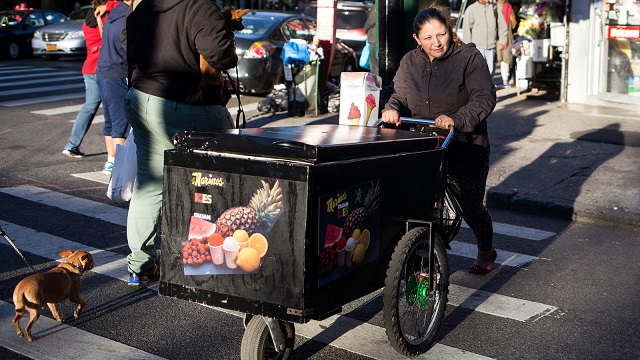car: (238, 13, 303, 86), (35, 9, 86, 55)
cart: (161, 123, 461, 360)
dog: (13, 248, 96, 340)
pedestrian lane: (3, 170, 120, 245)
person: (388, 9, 498, 276), (127, 1, 231, 281), (104, 5, 134, 167)
